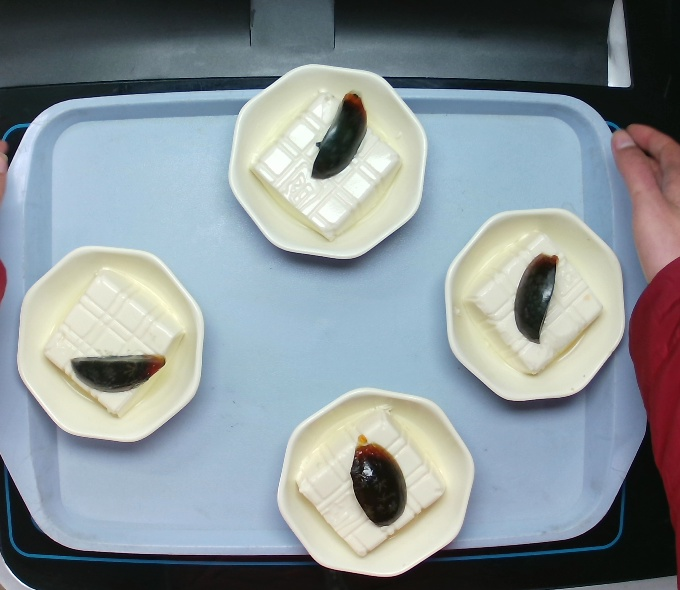wcq-PiDanDouFu: (244, 80, 404, 245), (296, 402, 448, 554), (41, 267, 193, 417), (460, 227, 602, 380)
